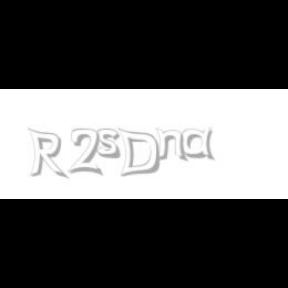2: (67, 128, 101, 176)
D: (116, 128, 160, 178)
R: (28, 128, 66, 180)
a: (181, 128, 218, 160)
n: (155, 128, 189, 162)
s: (97, 128, 125, 160)
